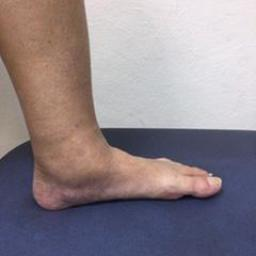Medial View -Left Foot-: (17, 112, 229, 224)
